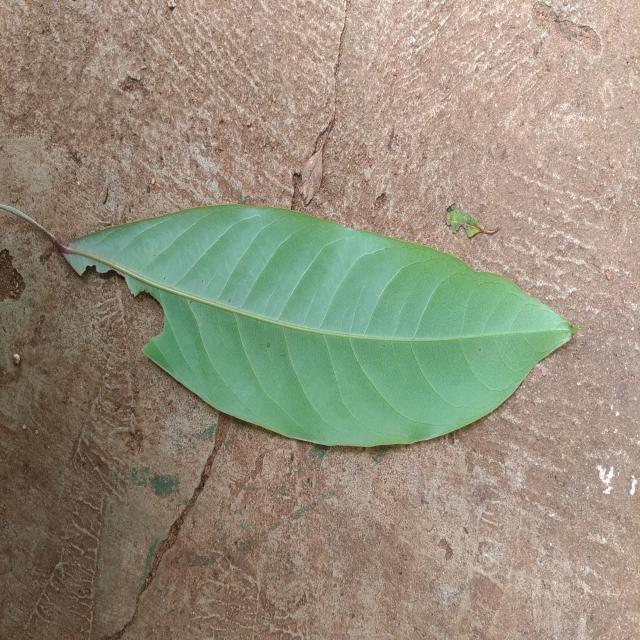seethaashoka: (59, 204, 575, 447)
